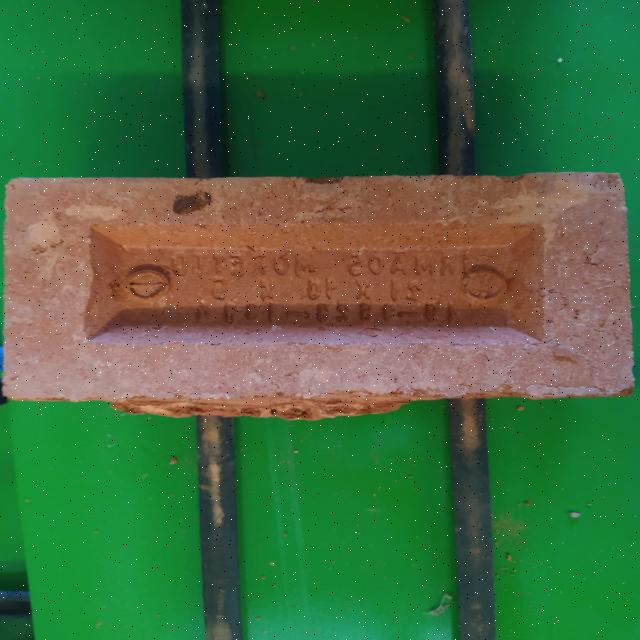bricks_ruin: (0, 173, 633, 417)
